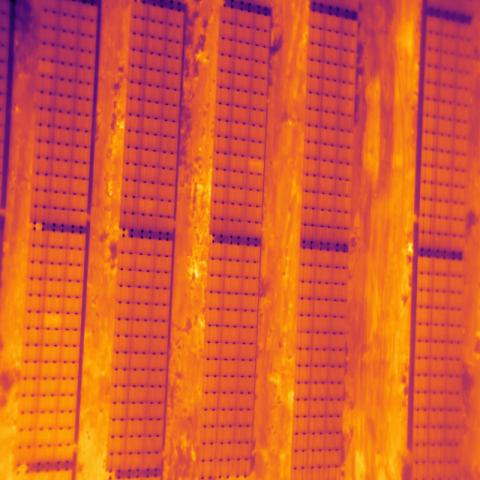fault: (43, 313, 63, 330), (247, 156, 264, 176)
